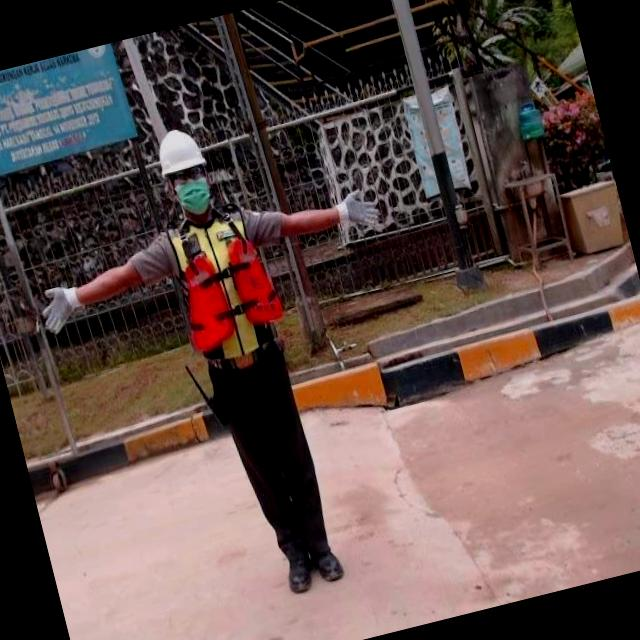vest: (150, 192, 297, 374)
